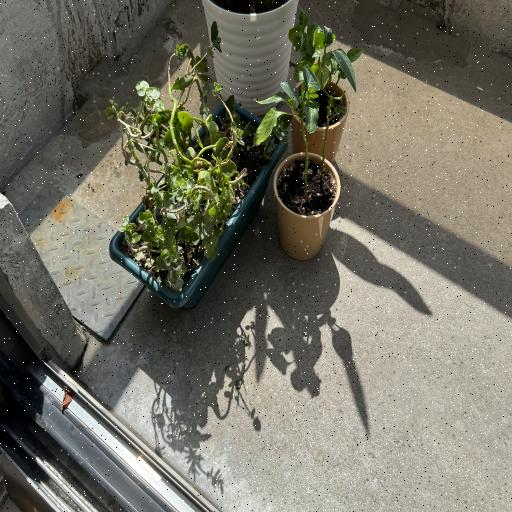Plant Pot: (208, 0, 298, 109), (276, 151, 339, 260), (288, 77, 346, 160)
